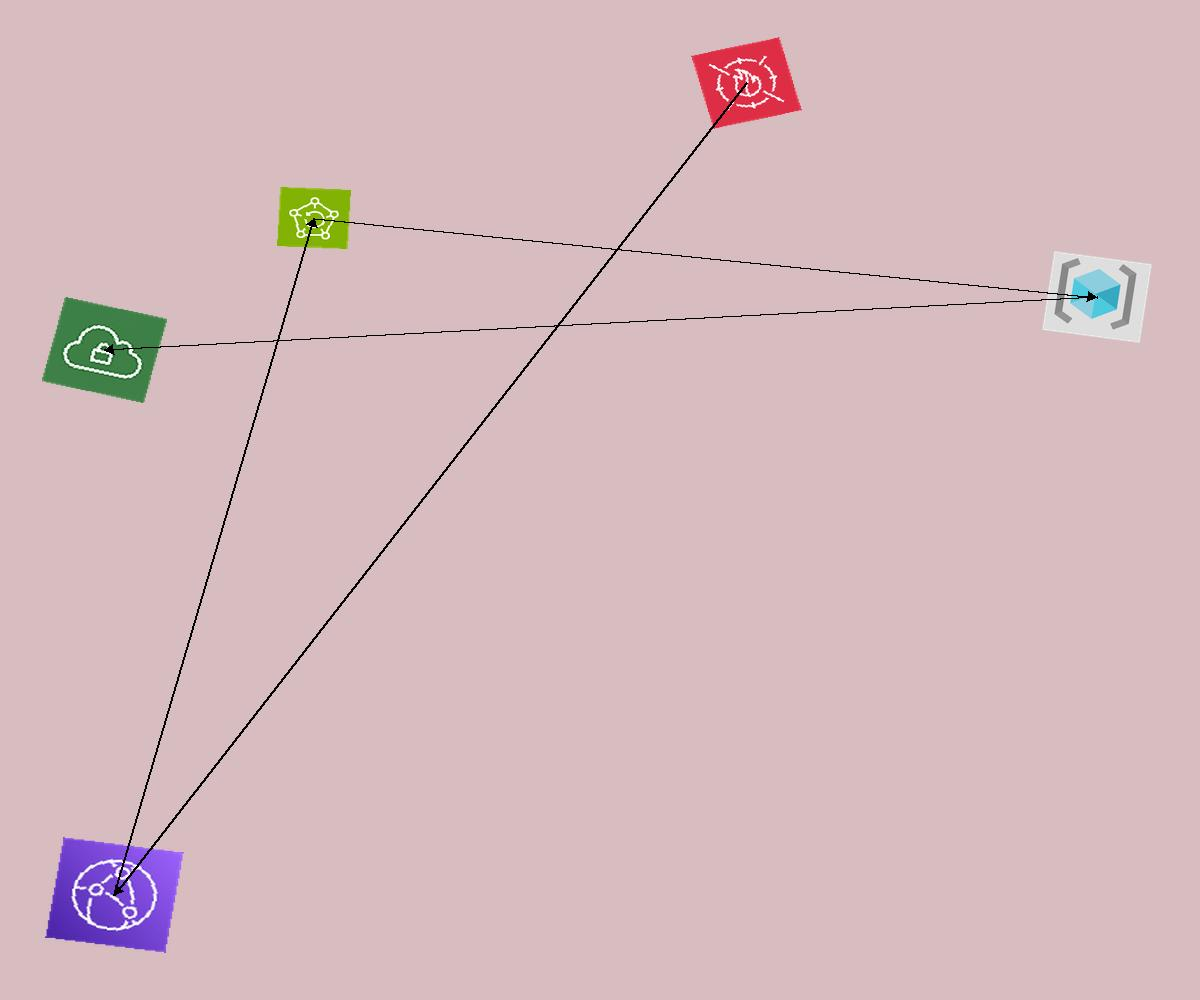AWS-Backup: (277, 187, 351, 249)
AWS-CloudFront: (45, 837, 184, 953)
AWS-Private_vpc: (41, 297, 168, 403)
AWS-WAF: (691, 37, 802, 129)
Azure_resource_group: (1042, 251, 1152, 343)
